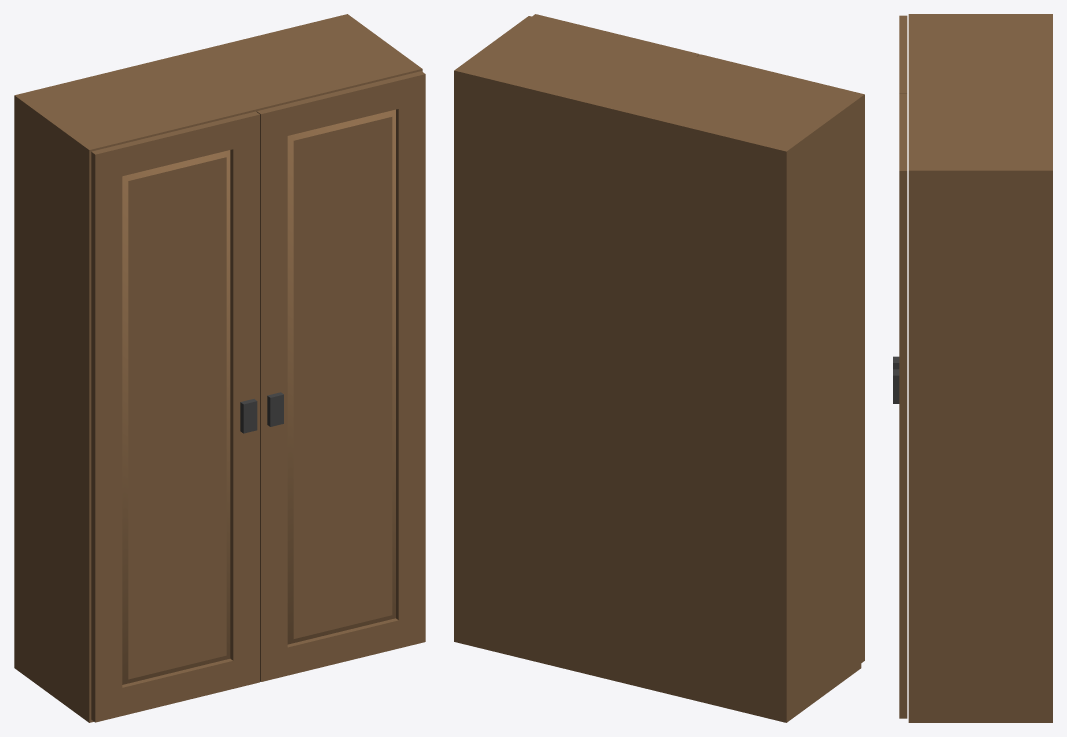
File: Furniture_05.fbx
3 views of the same model, side by side, from view 1: azimuth 30°, elevation 25°; view 2: azimuth 150°, elevation 25°; view 3: azimuth 270°, elevation 25° (orthographic). The views are drawn at different scales.
Parts seen in each view (by area): view 1: Furniture_05_2, Furniture_05_1, Furniture_05; view 2: Furniture_05, Furniture_05_2, Furniture_05_1; view 3: Furniture_05, Furniture_05_1, Furniture_05_2.
Boxes of the visible parts, x1=… form: Furniture_05_2: x1=91, y1=111, x2=259, y2=722; Furniture_05_1: x1=256, y1=71, x2=425, y2=681; Furniture_05: x1=14, y1=14, x2=422, y2=722; Furniture_05: x1=454, y1=16, x2=861, y2=722; Furniture_05_2: x1=697, y1=54, x2=864, y2=662; Furniture_05_1: x1=532, y1=14, x2=699, y2=56; Furniture_05: x1=908, y1=14, x2=1052, y2=722; Furniture_05_1: x1=893, y1=93, x2=907, y2=718; Furniture_05_2: x1=893, y1=15, x2=907, y2=369.
Bounding box in the file's own units: 122 × 201 × 52.8.
